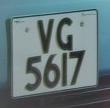1: (60, 50, 71, 91)
5: (20, 51, 43, 93)
6: (43, 52, 62, 92)
7: (67, 48, 88, 90)
G: (55, 14, 77, 54)
V: (32, 13, 59, 55)
